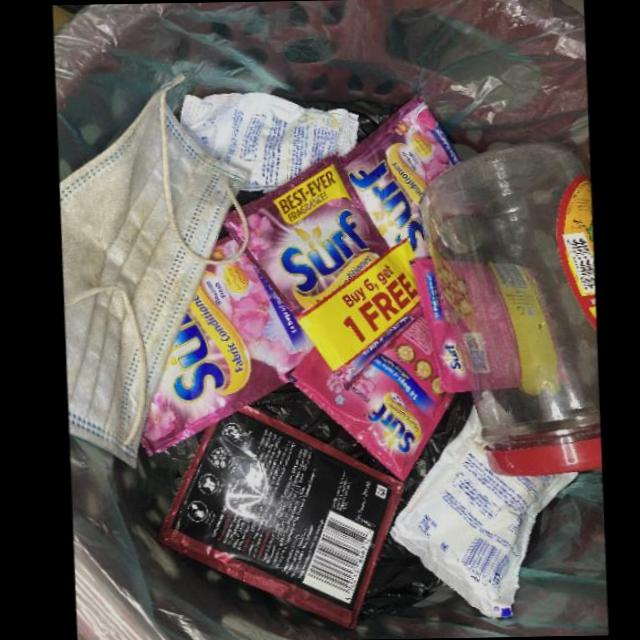goi_nhua_nho: (149, 406, 395, 631), (218, 154, 417, 390), (380, 407, 570, 620), (131, 237, 308, 458), (281, 315, 449, 480), (405, 259, 564, 392), (338, 94, 457, 257), (174, 92, 356, 193)
hop_nhua: (415, 143, 594, 478)
khau_trang: (55, 89, 242, 471)
